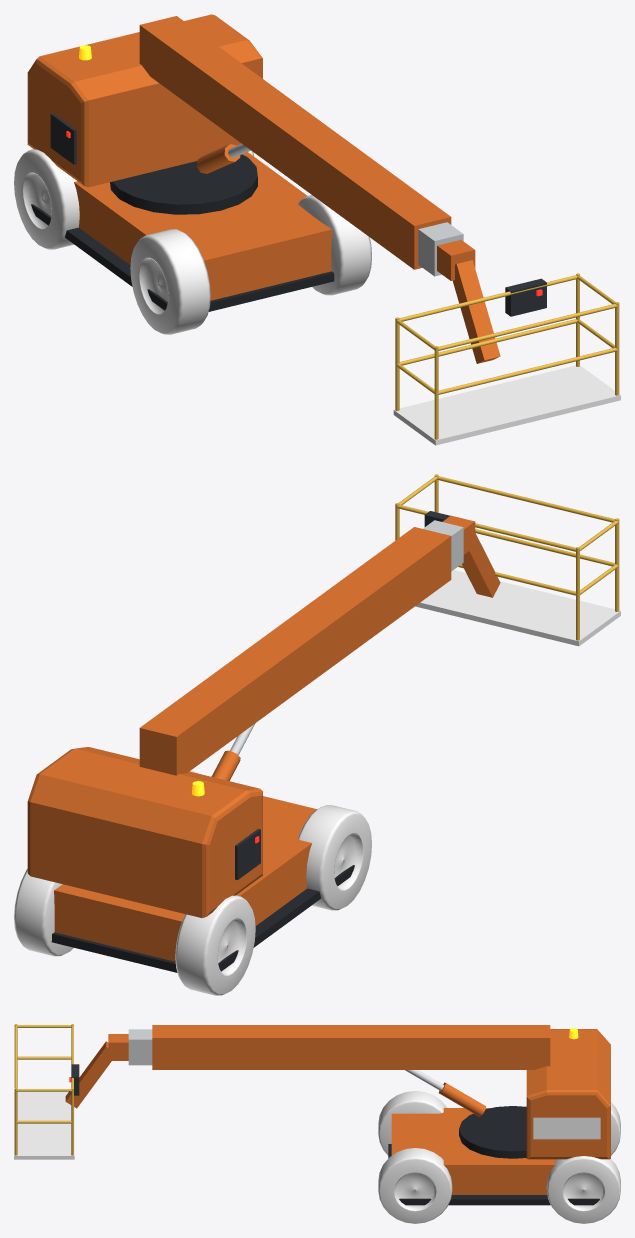
File: equipment--aerialBoomLift.glb
3 views of the same model, one above another, from view 1: azimuth 30°, elevation 25°; view 2: azimuth 150°, elevation 25°; view 3: azimuth 270°, elevation 25° (orthographic). The views are drawn at different scales.
Parts seen in each view (by area): view 1: turntable, boom, aerialBoomLift:shell, platform, axleFront, axleRear, jib, boomTele, controls, groundControls; view 2: turntable, boom, aerialBoomLift:shell, platform, axleRear, axleFront, jib, groundControls, boomTele; view 3: boom, turntable, aerialBoomLift:shell, axleFront, platform, axleRear, jib, boomTele.
Boxes of the visible parts, x1,y1,x2,y2 form: turntable: (27,14,262,214); boom: (139,16,451,269); aerialBoomLift:shell: (31,152,334,311); platform: (393,273,620,445); axleFront: (130,195,371,334); axleRear: (14,149,254,249); jib: (437,240,500,363); boomTele: (418,222,463,276); controls: (505,278,546,316); groundControls: (50,113,76,164); turntable: (27,747,262,917); boom: (139,527,451,780); aerialBoomLift:shell: (51,796,354,972); platform: (395,474,620,646); axleRear: (14,869,255,995); axleFront: (190,770,371,910); jib: (442,515,500,597); groundControls: (235,829,260,880); boomTele: (423,520,463,571); boom: (152,1025,550,1116); turntable: (459,1029,610,1159); aerialBoomLift:shell: (388,1108,599,1205); axleFront: (378,1091,452,1223); platform: (14,1024,74,1159); axleRear: (546,1102,620,1223); jib: (65,1034,128,1108); boomTele: (128,1029,152,1065).
Bounding box in the file's own units: 2.42 × 2.61 × 9.
